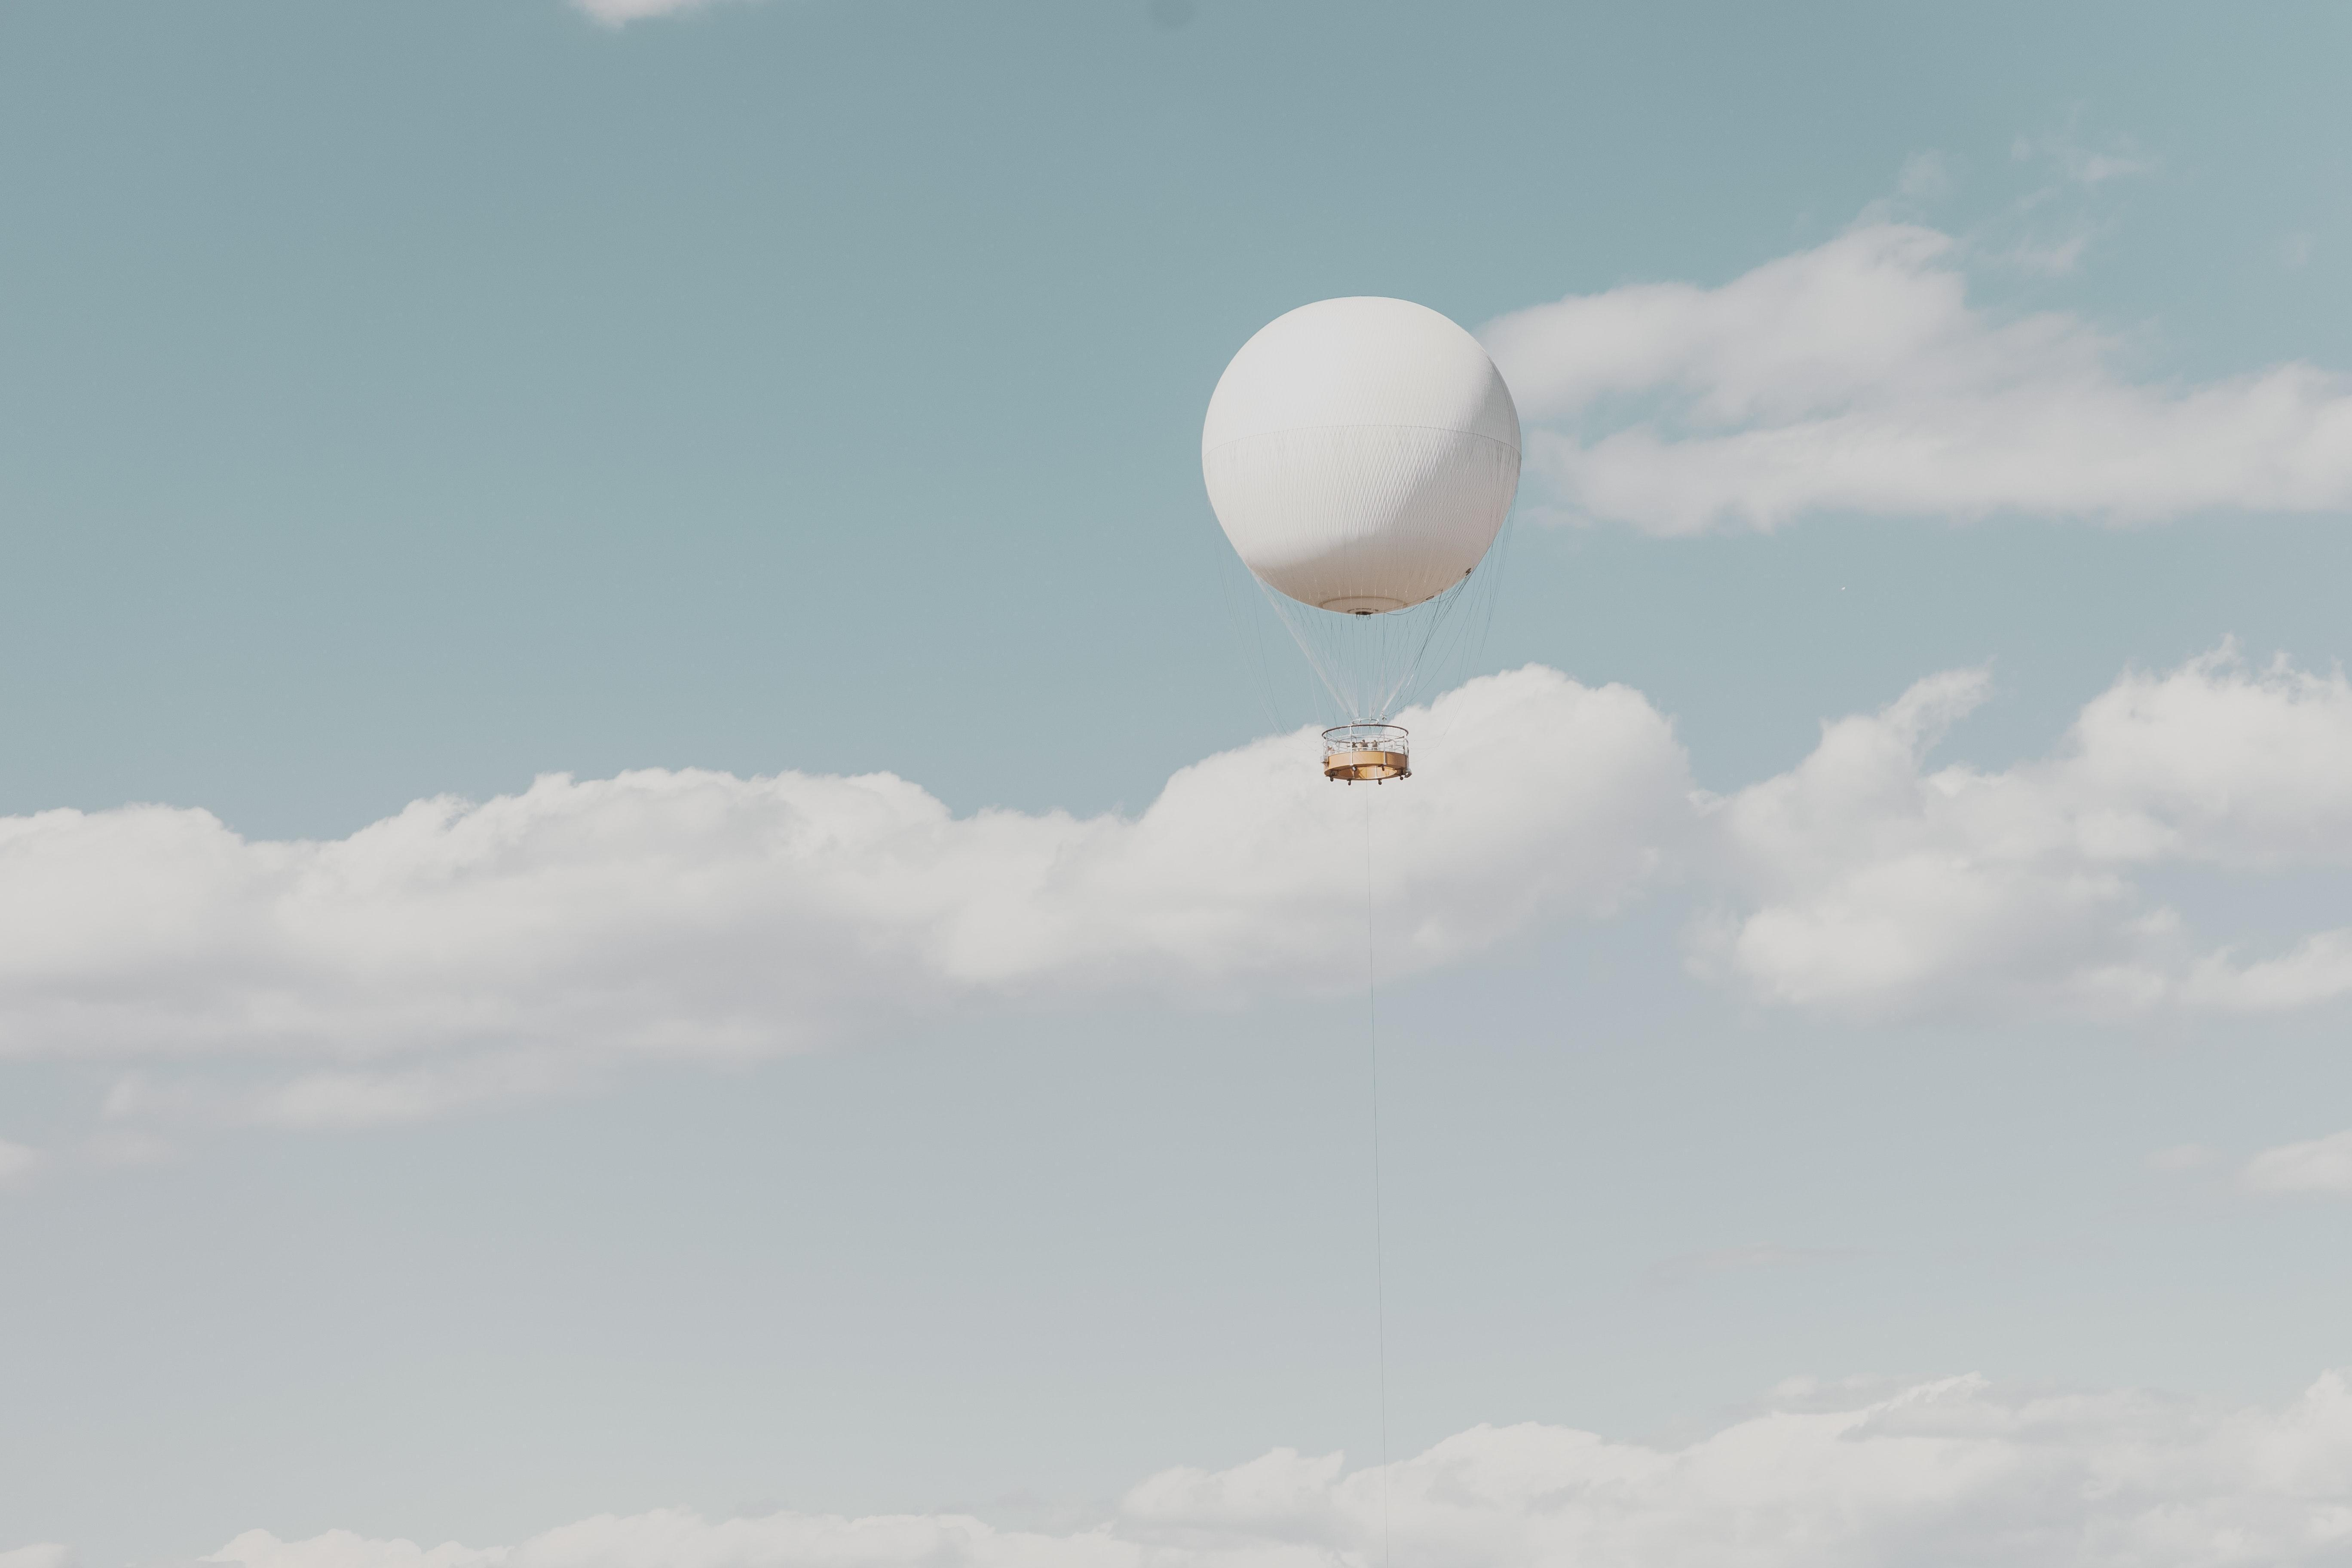hot air ballon: (1202, 294, 1526, 786)
